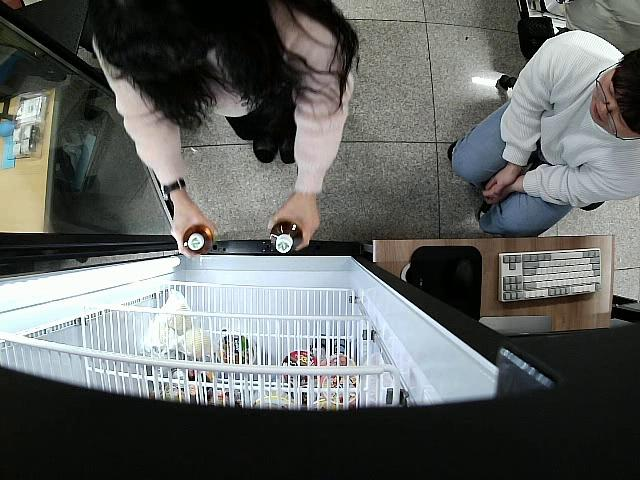00_hand: (167, 190, 215, 258), (268, 194, 324, 252)
19_17cha: (269, 216, 305, 255), (181, 225, 213, 257)
